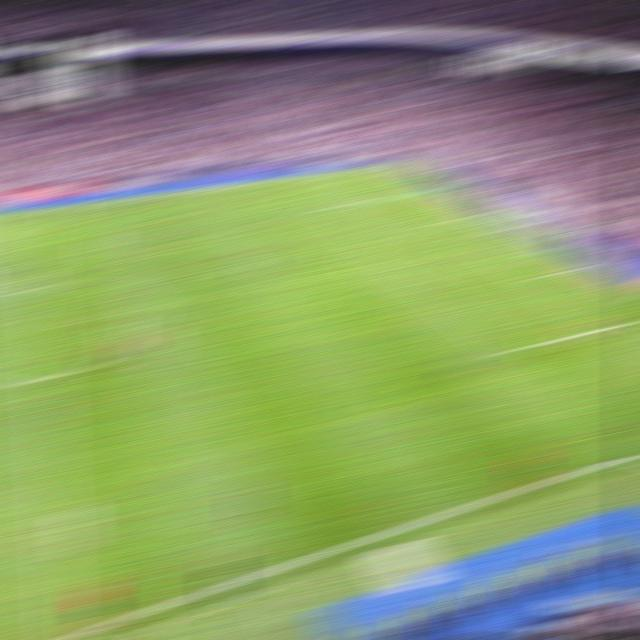bigarea_bottom_inner: (497, 341, 527, 358)
bigarea_top_inner: (317, 201, 343, 210)
bigarea_top_outter: (422, 185, 449, 192)
bottom_arc_area_intersection: (418, 282, 445, 291)
corner: (378, 162, 405, 168)
halfcircle_bottom: (32, 366, 62, 386)
halfcircle_top: (27, 279, 56, 293)
midline_bottom_intersection: (44, 632, 75, 638)
midline_top_intersection: (24, 207, 50, 216)
smallarea_bottom_inner: (523, 271, 552, 281)
smallarea_top_inner: (433, 216, 459, 223)
top_arc_area_intersection: (357, 232, 384, 242)
